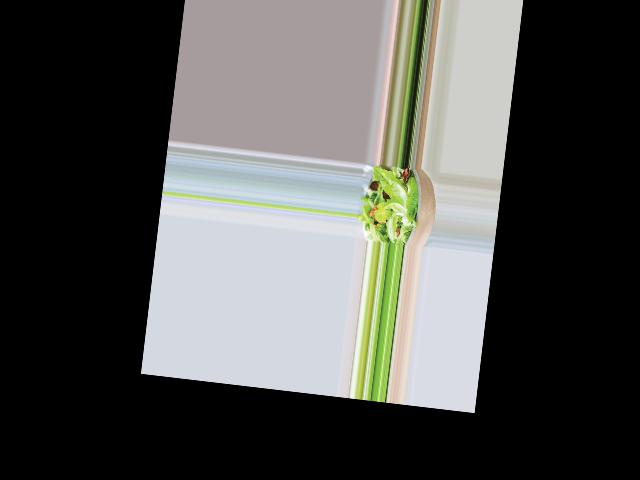lettuce: (359, 170, 421, 242)
